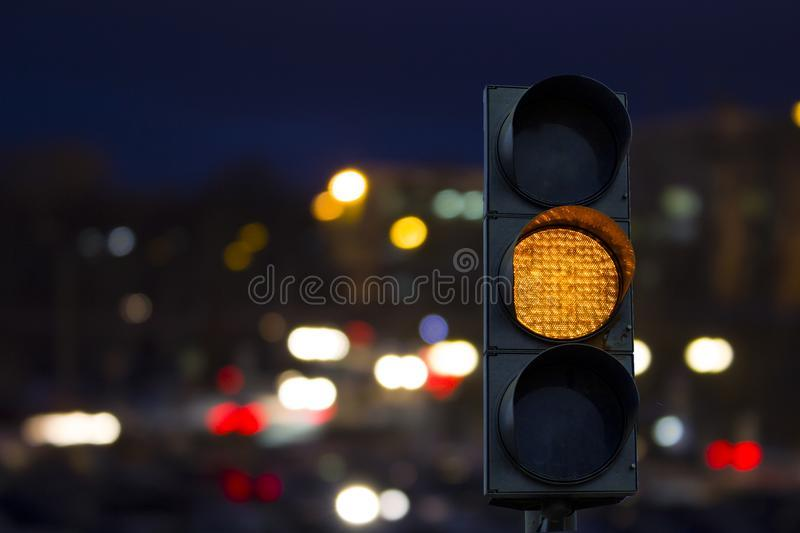yellow_light: (482, 76, 638, 509)
